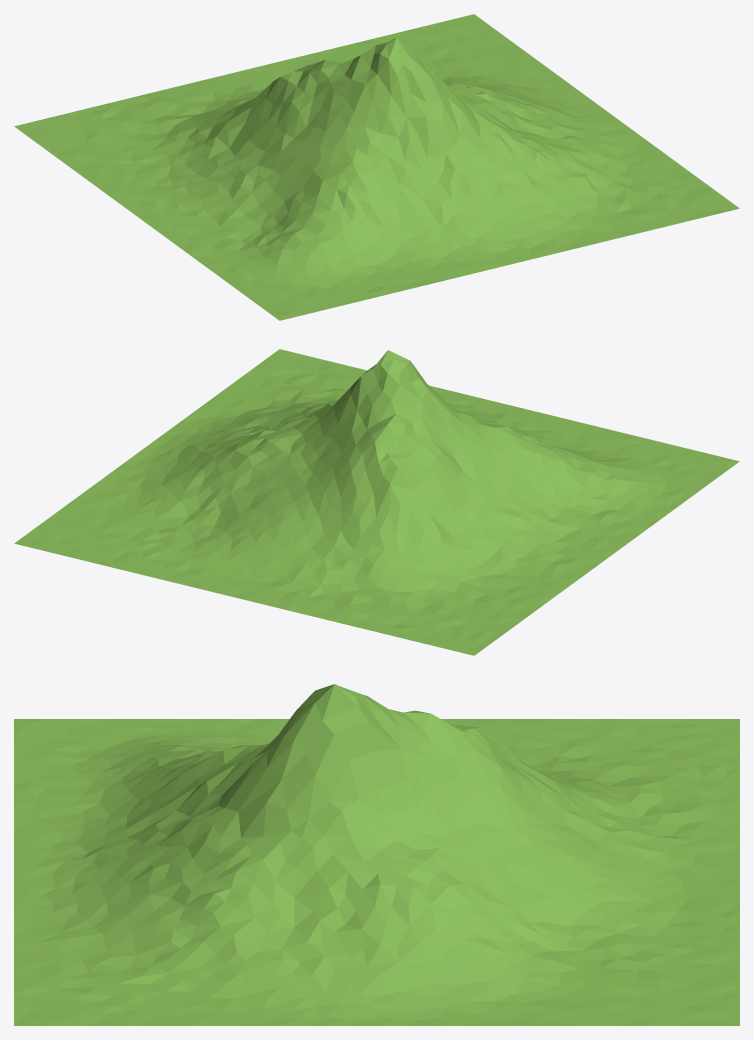
Rendered from MT_Terrain_L_a_39.fbx.
3 views of the same model, one above another, from view 1: azimuth 30°, elevation 25°; view 2: azimuth 150°, elevation 25°; view 3: azimuth 270°, elevation 25° (orthographic). The views are drawn at different scales.
Visible parts, largest first — view 1: MT_Terrain_L_a_39; view 2: MT_Terrain_L_a_39; view 3: MT_Terrain_L_a_39.
Boxes of the visible parts, x1,y1,x2,y2 form: MT_Terrain_L_a_39: (14, 14, 739, 320); MT_Terrain_L_a_39: (14, 349, 739, 655); MT_Terrain_L_a_39: (14, 684, 739, 1025).
Bounding box in the file's own units: 10000 × 2931 × 10000.
